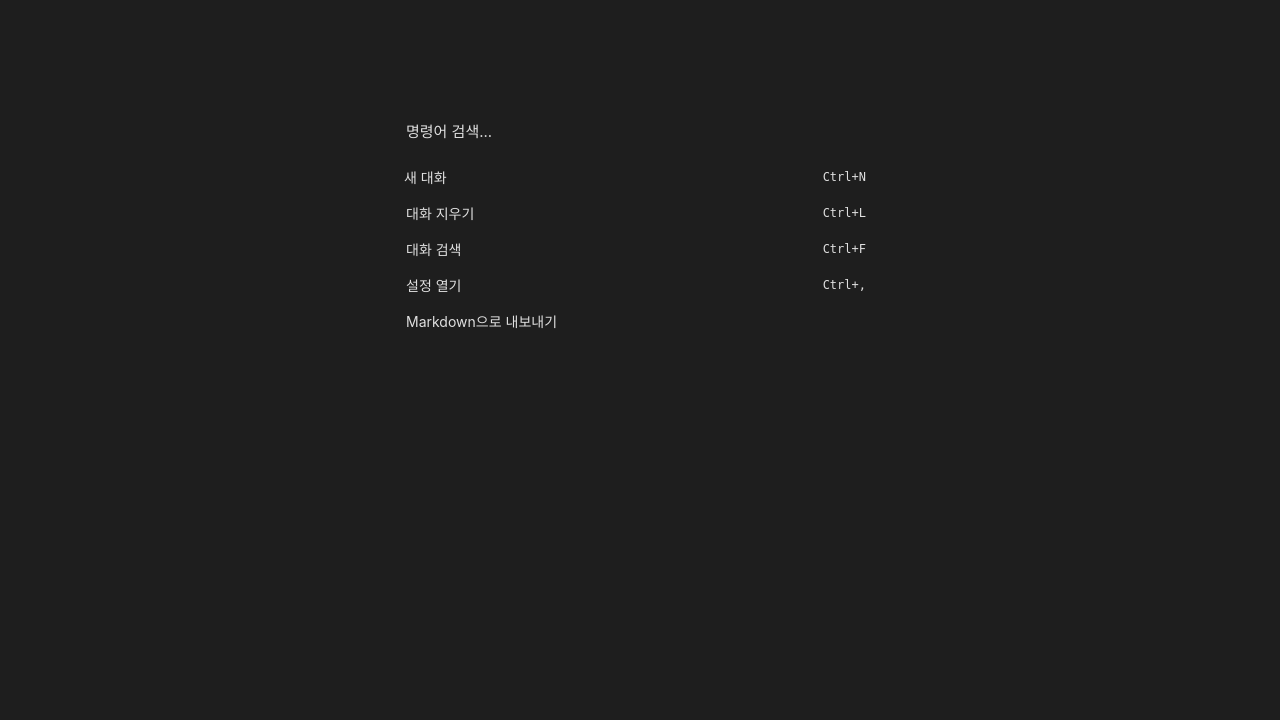
CommandPalette › Korean chosung search › filters commands by initial consonants (chosung)
Type "ㅅㅈ" into the dropdown with placeholder "명령어 검색..." at (640, 132), box 390,108 -> 890,155
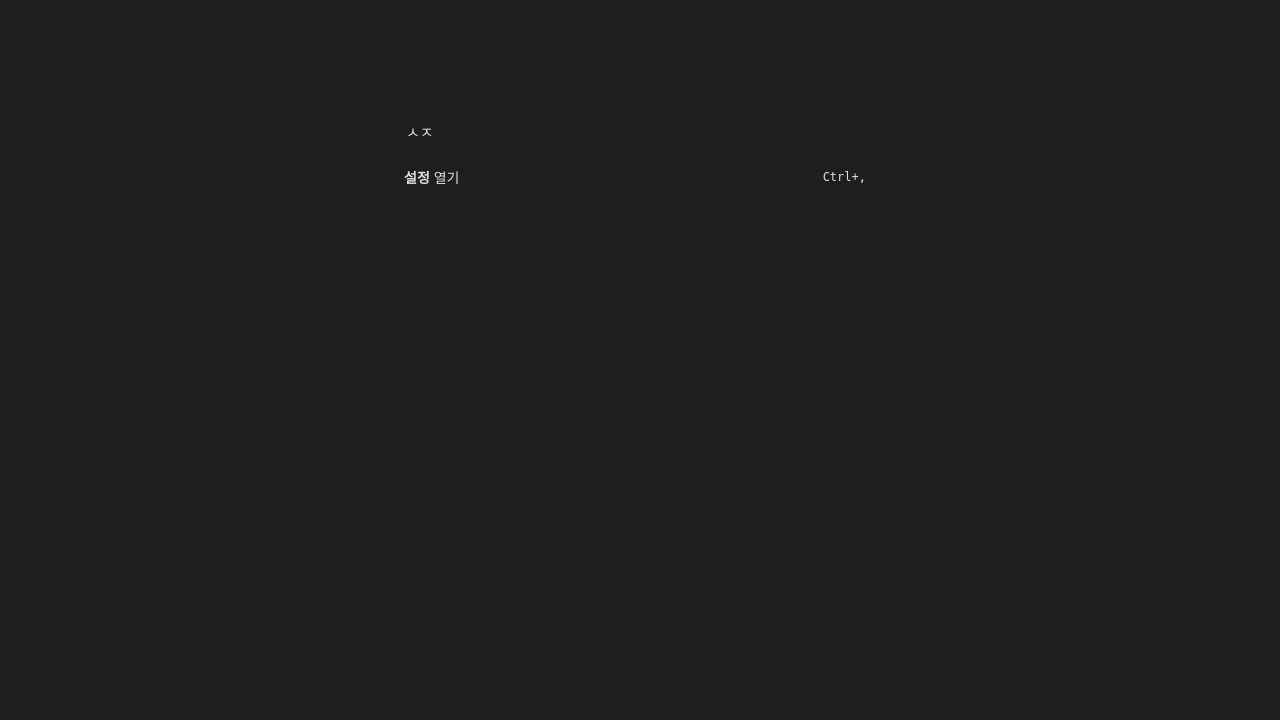
Expected: the option "설정 열기 Ctrl+," is shown, 404,169 -> 866,186
Result: the option "새 대화" is gone
